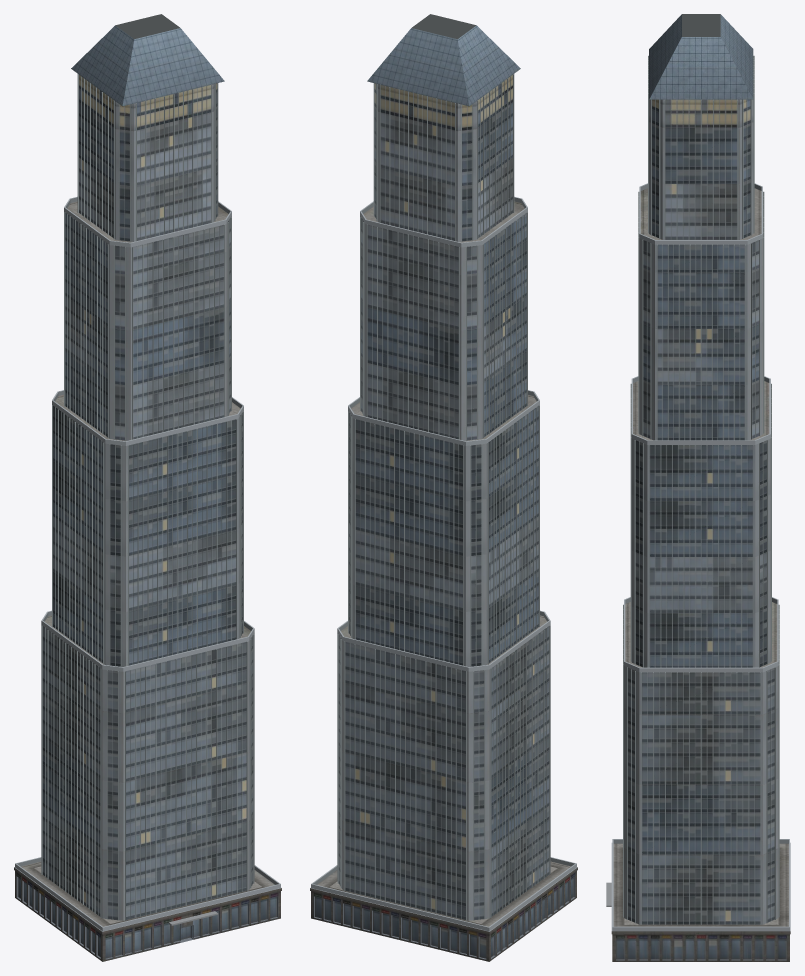
File: nyc_glasstower_c.glb
The picture shows the model from 3 angles, left to right: view 1: azimuth 30°, elevation 25°; view 2: azimuth 150°, elevation 25°; view 3: azimuth 270°, elevation 25°; orthographic projection.
Parts seen in each view (by area): view 1: nyc_glasstower_c; view 2: nyc_glasstower_c; view 3: nyc_glasstower_c.
Part boxes in pixels (<box>): nyc_glasstower_c: <box>14,14,281,961</box>; nyc_glasstower_c: <box>310,14,577,961</box>; nyc_glasstower_c: <box>606,14,790,961</box>.
Bounding box in the file's own units: 54.31 × 255 × 47.75.
1 material, 1 textured.
